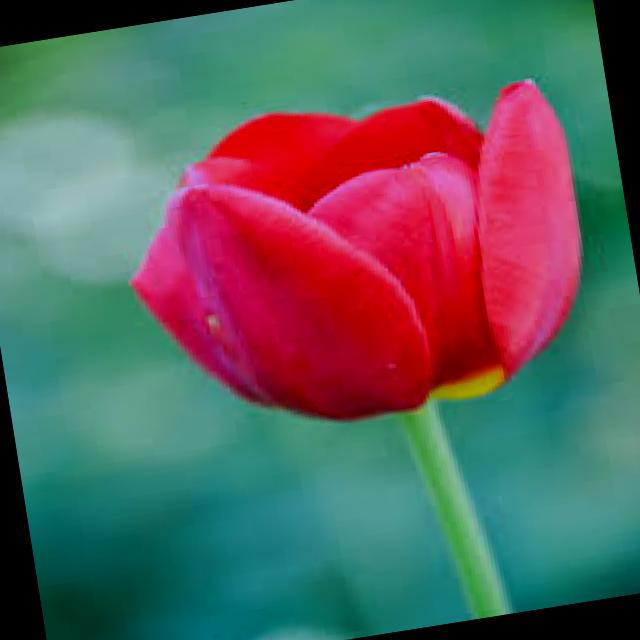tulip: (70, 32, 631, 492)
